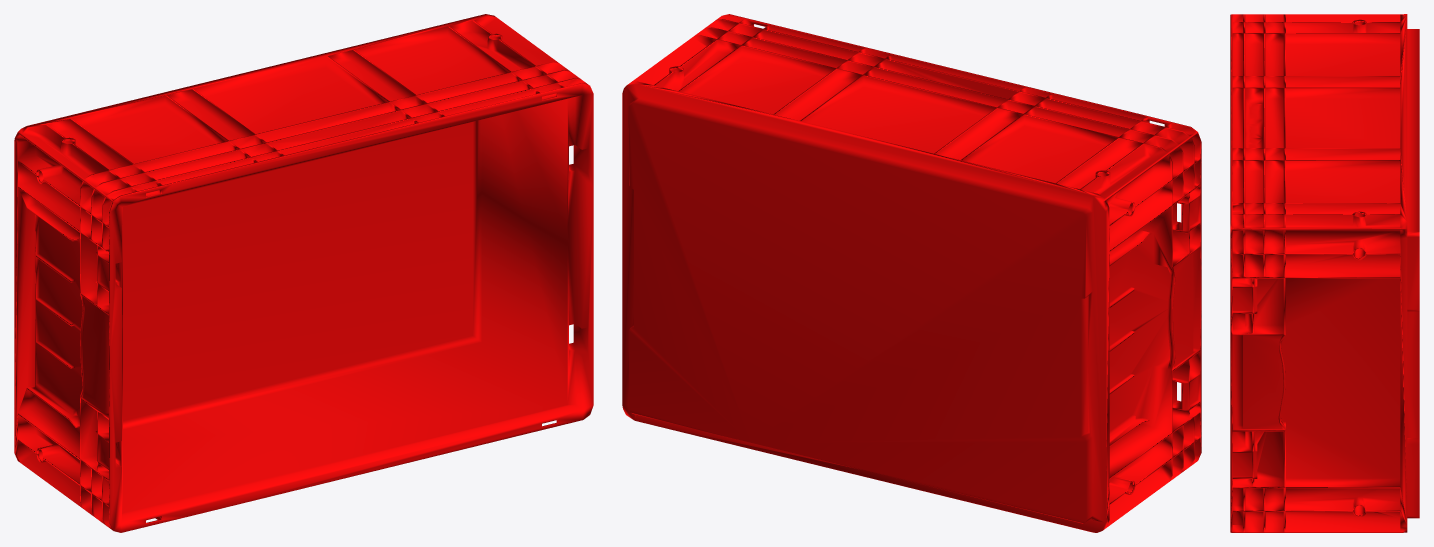
File: klt_box_middle_lowpoly.obj
3 renders of one model, left to right at view 1: azimuth 30°, elevation 25°; view 2: azimuth 150°, elevation 25°; view 3: azimuth 270°, elevation 25°, orthographic. The views are drawn at different scales.
Visible parts, largest first — view 1: klt_box_middle_lowpoly; view 2: klt_box_middle_lowpoly; view 3: klt_box_middle_lowpoly.
Boxes of the visible parts, bbox=[...] form: klt_box_middle_lowpoly: bbox=[14, 14, 593, 532]; klt_box_middle_lowpoly: bbox=[622, 14, 1201, 532]; klt_box_middle_lowpoly: bbox=[1230, 14, 1419, 532].
Size of the model in its own units: 0.594 by 0.395 by 0.218.
